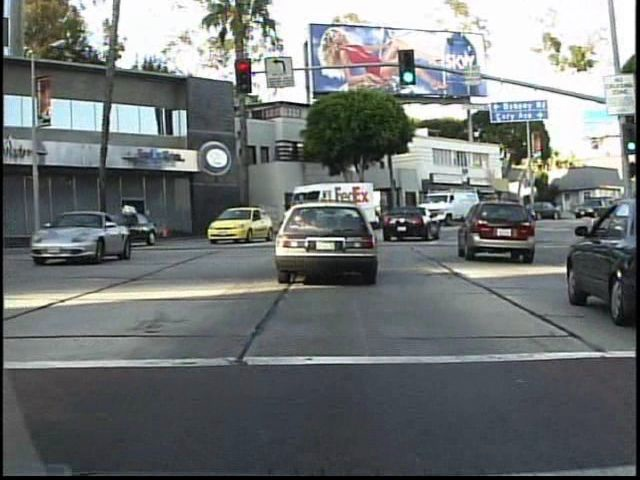person: (247, 200, 265, 229)
